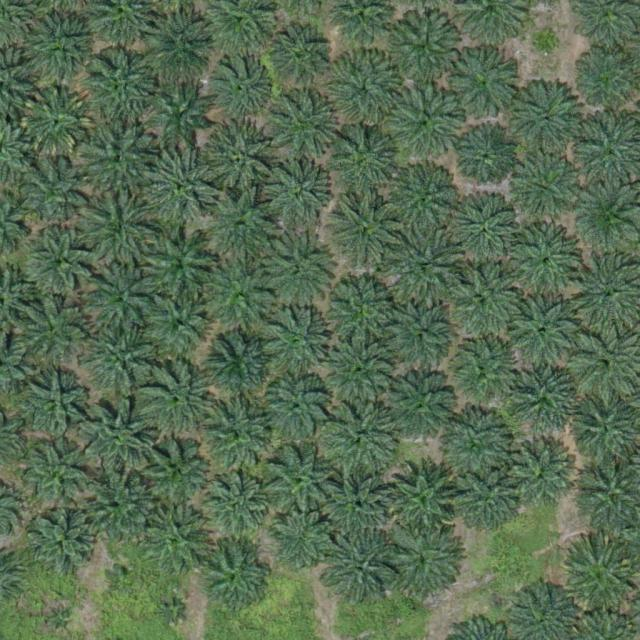Healthy: (386, 162, 464, 241), (328, 49, 406, 128), (327, 126, 405, 205), (327, 196, 405, 275), (199, 120, 277, 199), (204, 189, 282, 268), (139, 149, 217, 228), (141, 5, 219, 84), (81, 46, 159, 125), (80, 121, 158, 200), (74, 192, 152, 271), (19, 438, 97, 517), (84, 260, 162, 339), (83, 319, 161, 398), (79, 403, 157, 482), (79, 475, 157, 554), (140, 222, 218, 301), (143, 284, 221, 363), (140, 359, 218, 438), (134, 430, 212, 509), (198, 256, 276, 335), (256, 307, 334, 386), (258, 231, 336, 310), (259, 445, 337, 524), (325, 332, 403, 411), (324, 400, 402, 479), (322, 530, 400, 609), (438, 264, 516, 343), (384, 458, 462, 537), (386, 523, 464, 602), (384, 83, 462, 161), (386, 9, 464, 87), (325, 274, 403, 352), (441, 333, 519, 411), (434, 407, 512, 485), (510, 81, 581, 152), (26, 11, 97, 82), (197, 468, 268, 539), (384, 372, 455, 443), (451, 44, 521, 115), (22, 159, 92, 230), (27, 227, 97, 298), (17, 298, 87, 369), (200, 542, 270, 613), (205, 401, 275, 472), (207, 331, 277, 402), (268, 507, 338, 578), (321, 472, 391, 543), (385, 301, 455, 372), (393, 229, 463, 300), (450, 463, 521, 533), (507, 297, 577, 368), (509, 155, 579, 225), (457, 198, 527, 268), (261, 158, 331, 228), (271, 92, 341, 162), (19, 369, 89, 439), (30, 510, 100, 580), (142, 510, 212, 580), (263, 375, 333, 445), (507, 440, 577, 510), (512, 362, 582, 432), (510, 229, 580, 299), (577, 48, 640, 111), (270, 26, 333, 89), (457, 127, 519, 190), (211, 57, 273, 120), (150, 82, 212, 145)
Small: (531, 30, 562, 61), (158, 596, 189, 627), (43, 606, 74, 637), (107, 563, 138, 594)
Yellow: (561, 541, 639, 619), (22, 87, 92, 157)
